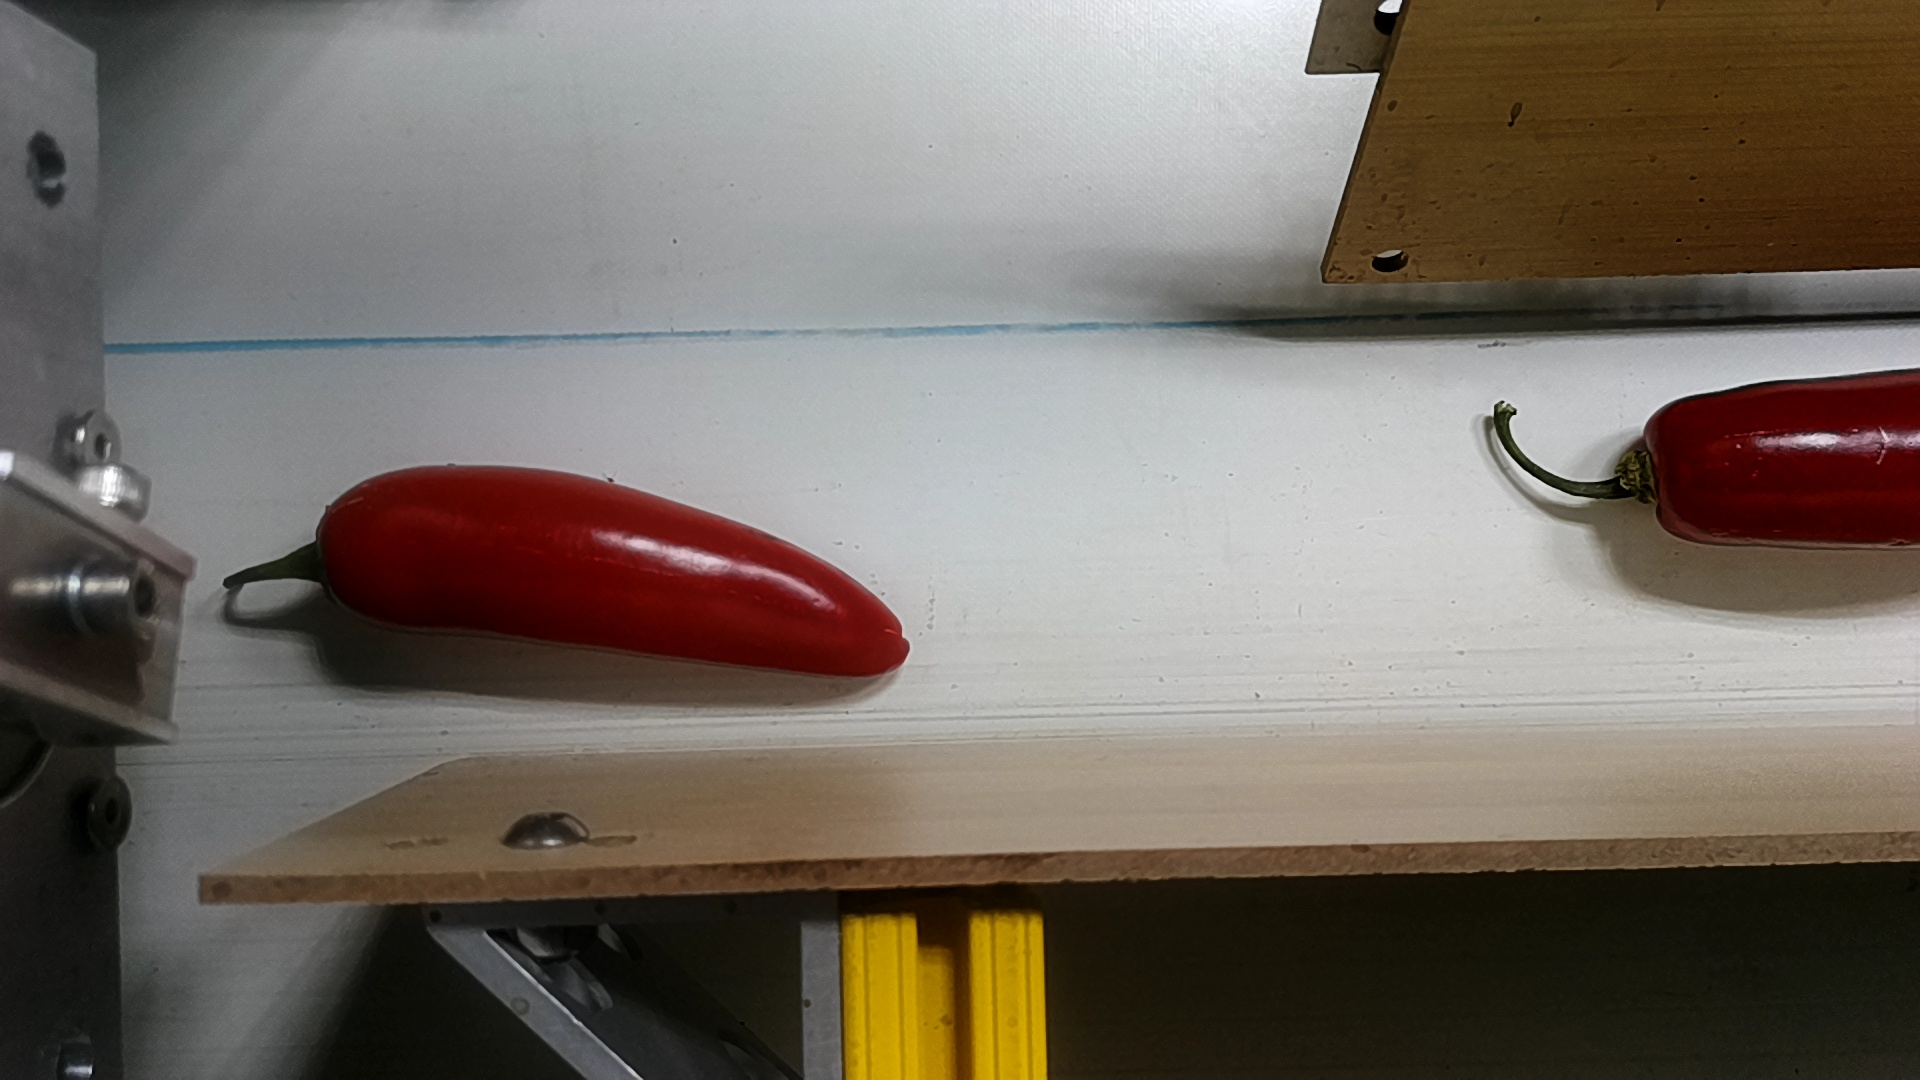Cut Point: (291, 463, 382, 636), (1614, 392, 1713, 546)
